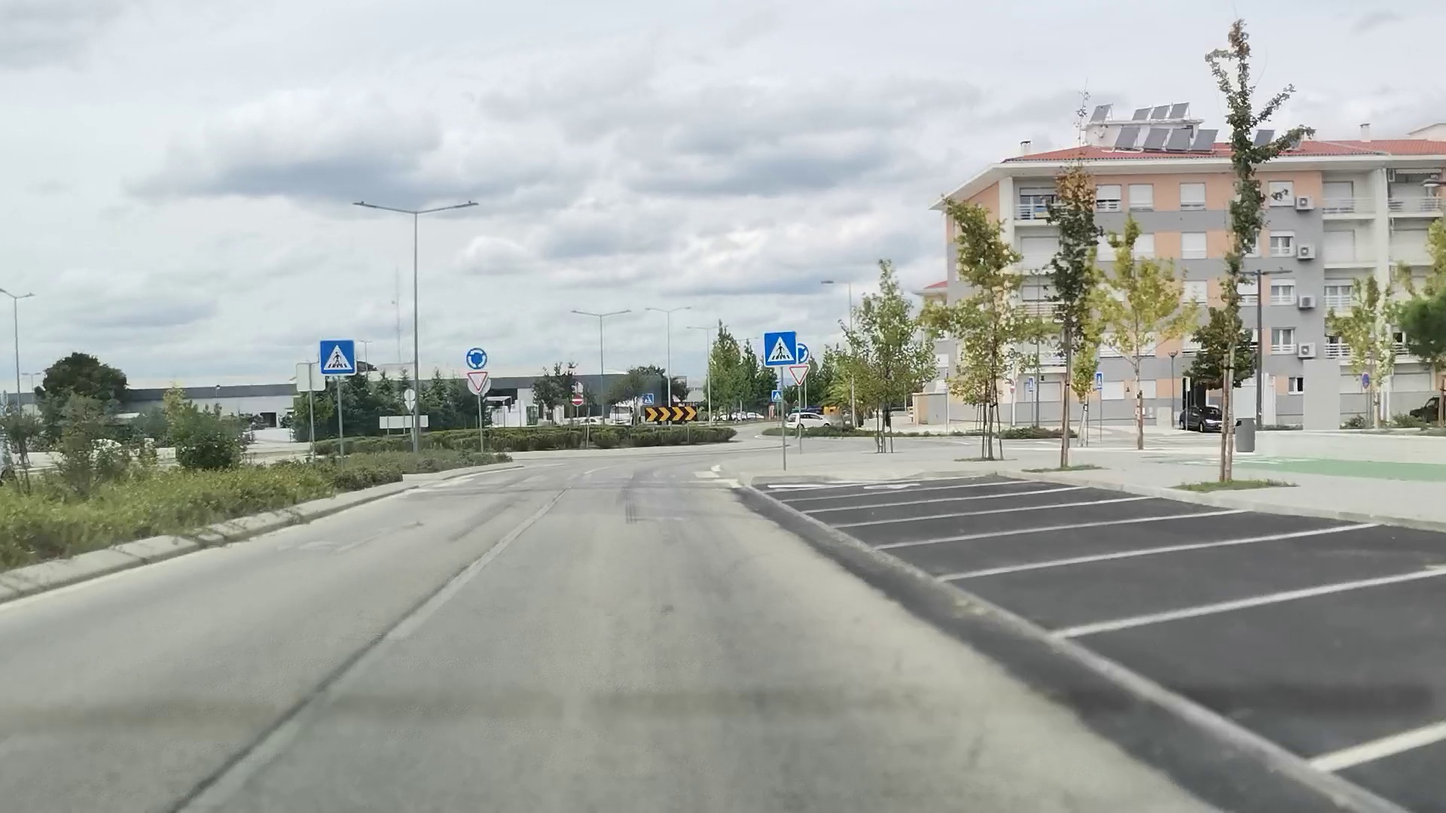Stairs: (431, 471, 722, 488)
